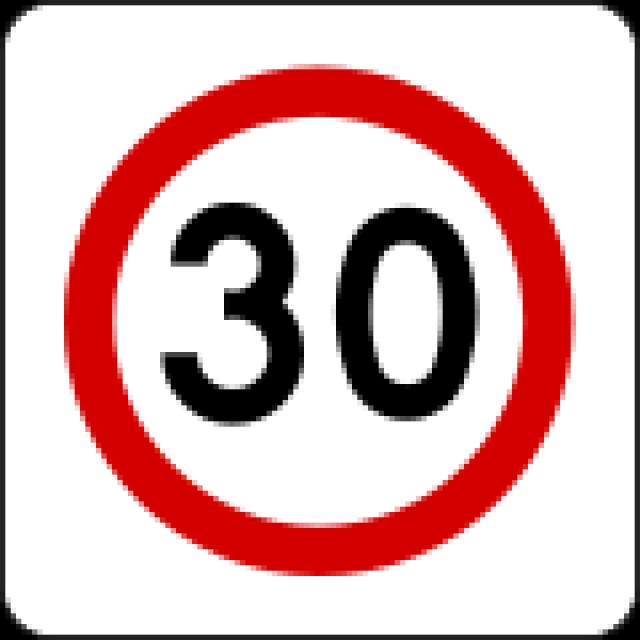Speed Limit -30-: (144, 192, 486, 434)
